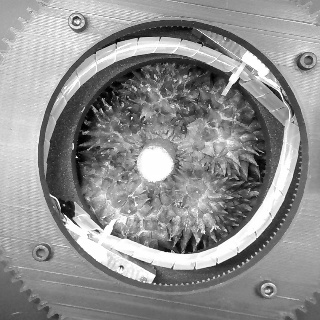base: (132, 133, 185, 175)
end: (136, 145, 175, 183)
